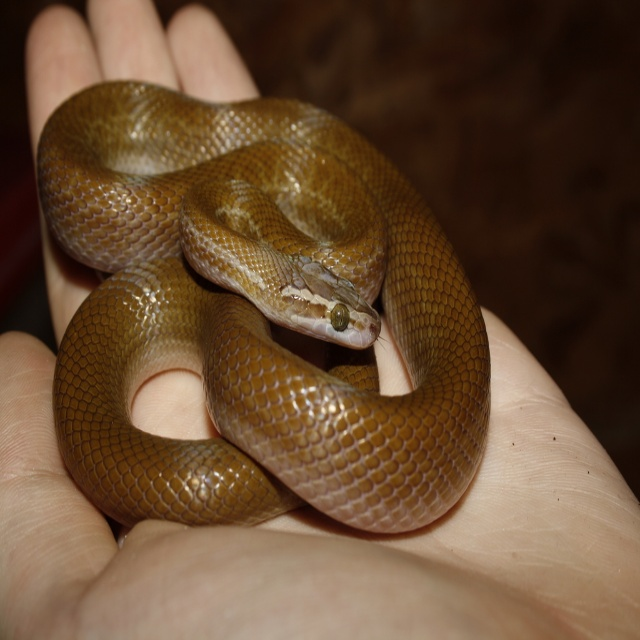Snake: (36, 76, 492, 535)
